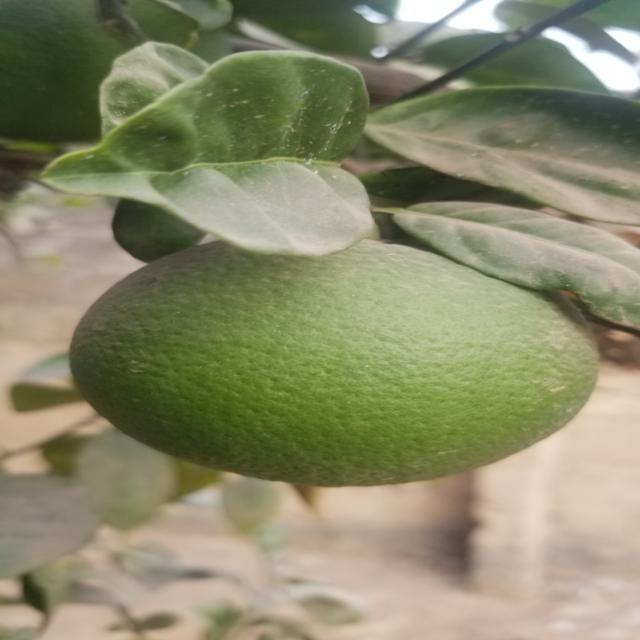agrume: (75, 244, 594, 489)
